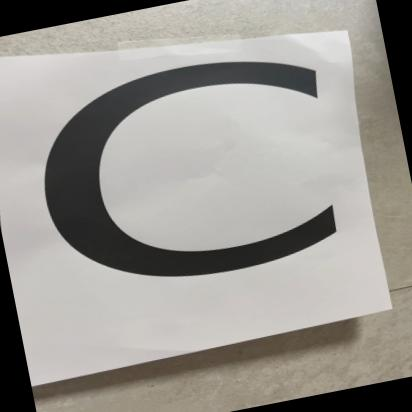seat: (0, 0, 392, 388)
